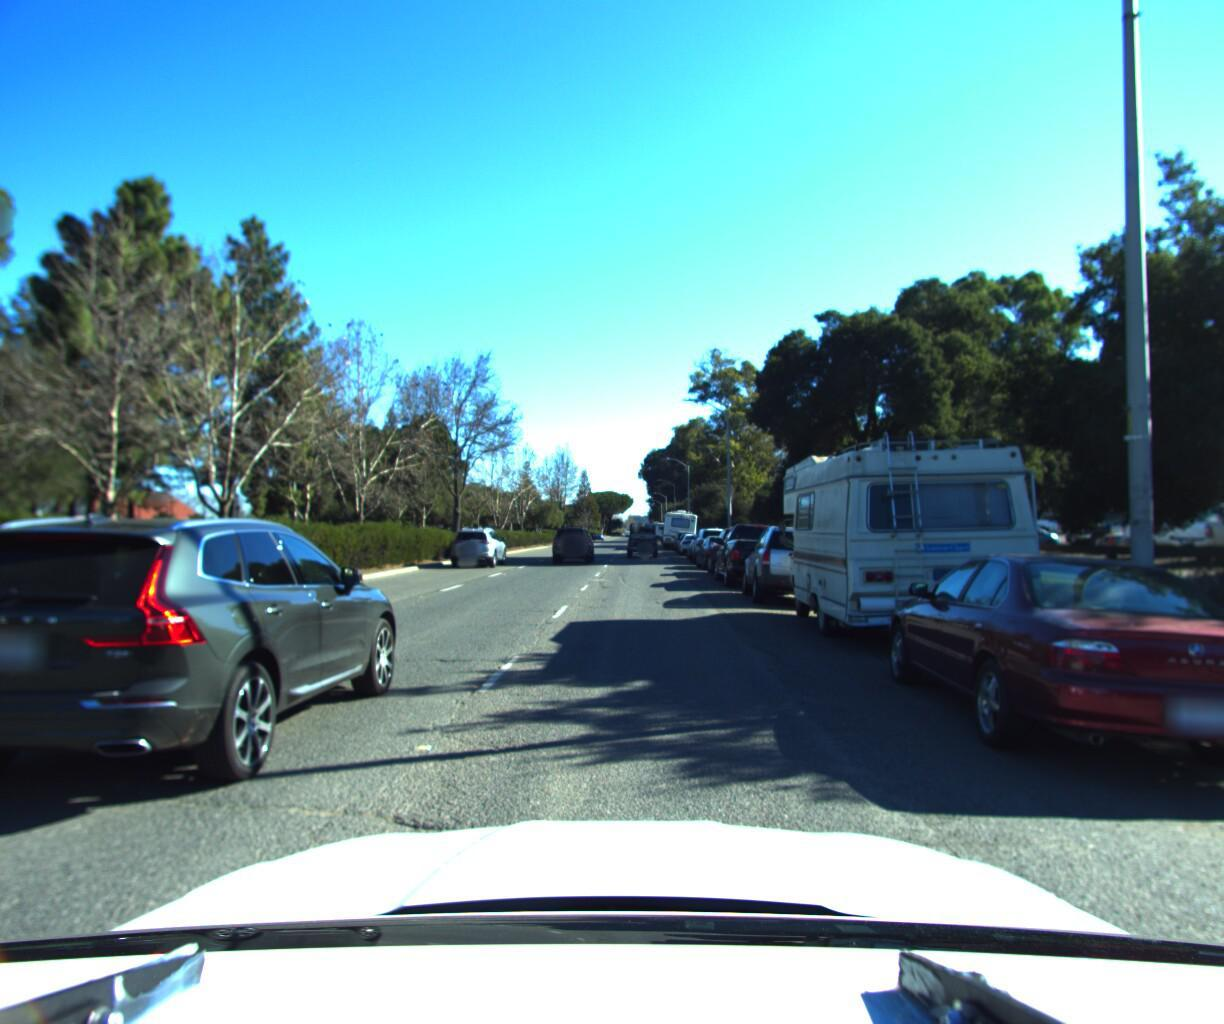car: (0, 508, 414, 832), (876, 540, 1224, 809), (743, 520, 841, 593), (714, 518, 802, 586), (705, 521, 778, 577), (449, 526, 507, 568), (688, 522, 742, 562), (547, 522, 597, 564), (694, 531, 747, 567), (621, 513, 662, 554), (676, 529, 708, 552)
other_vehicle: (773, 415, 1064, 660), (660, 505, 696, 545)
